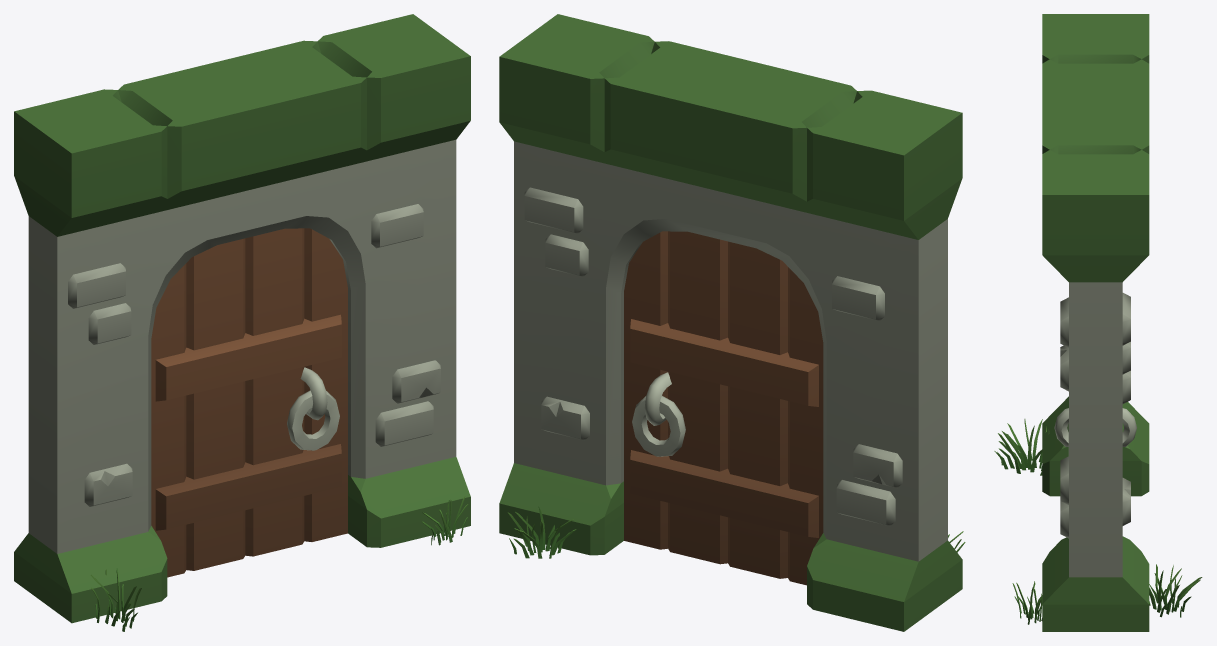
File: door.fbx
The picture shows the model from 3 angles, left to right: view 1: azimuth 30°, elevation 25°; view 2: azimuth 150°, elevation 25°; view 3: azimuth 270°, elevation 25°; orthographic projection. The views are drawn at different scales.
Visible parts, largest first — view 1: door, Door; view 2: door, Door; view 3: door, Door.
Boxes of the visible parts, x1,y1,x2,y2 form: door: (14, 14, 470, 631); Door: (151, 228, 347, 577); door: (499, 14, 965, 631); Door: (624, 231, 823, 585); door: (994, 14, 1202, 631); Door: (1054, 408, 1136, 455).
Bounding box in the file's own units: 4 × 4.5 × 1.94.
